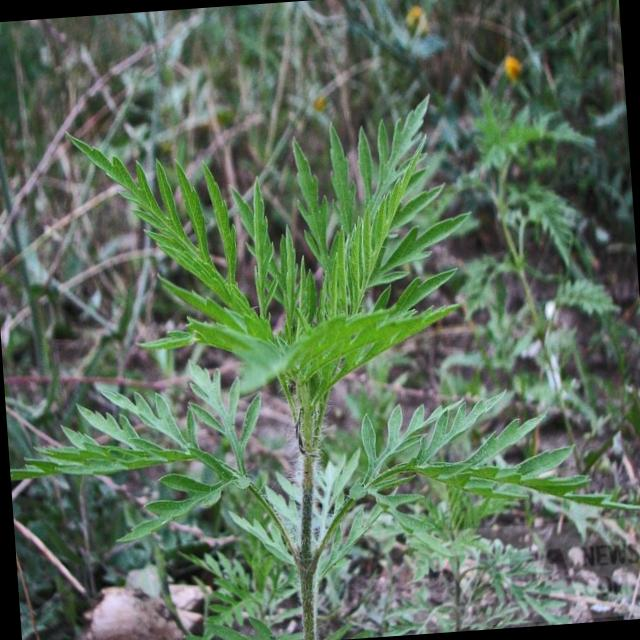ambrosia: (41, 81, 486, 426), (28, 343, 278, 623)
